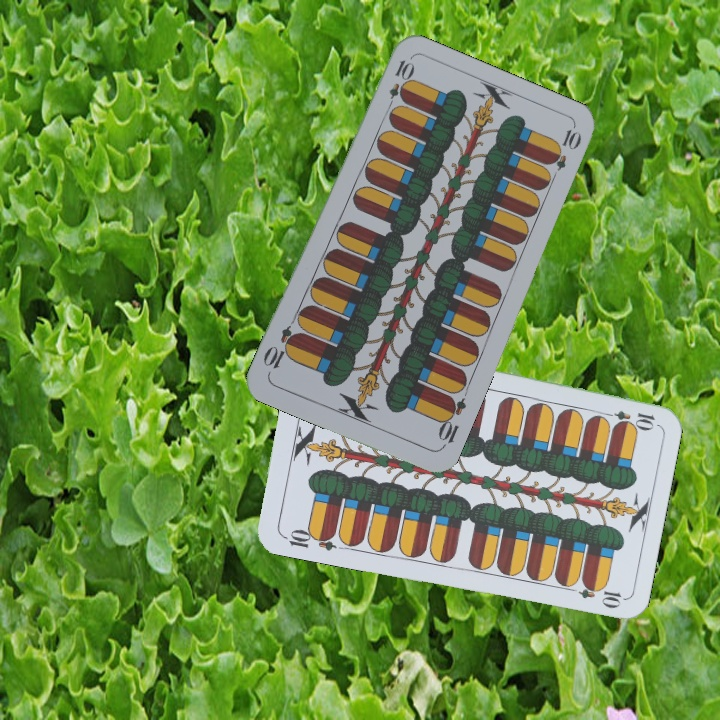E10: (434, 392, 469, 451), (383, 56, 415, 114), (279, 524, 338, 553), (598, 406, 657, 430)
